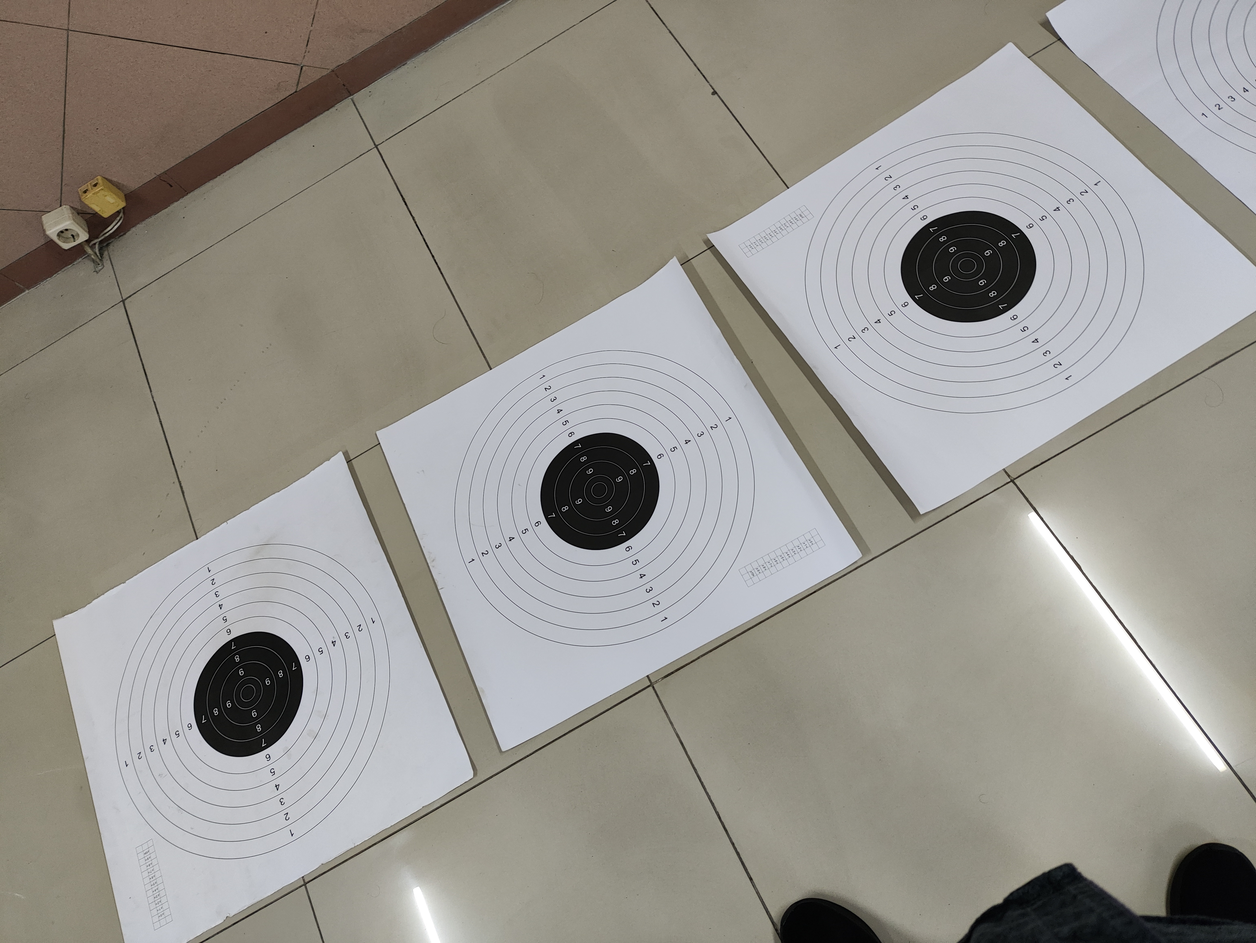target: (432, 318, 777, 668), (793, 100, 1154, 429), (95, 527, 410, 872)
